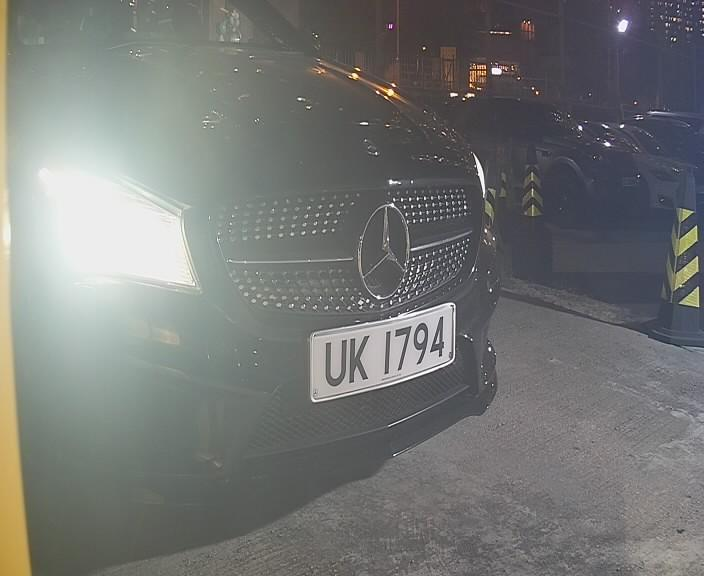License Plate: (302, 299, 456, 404)
